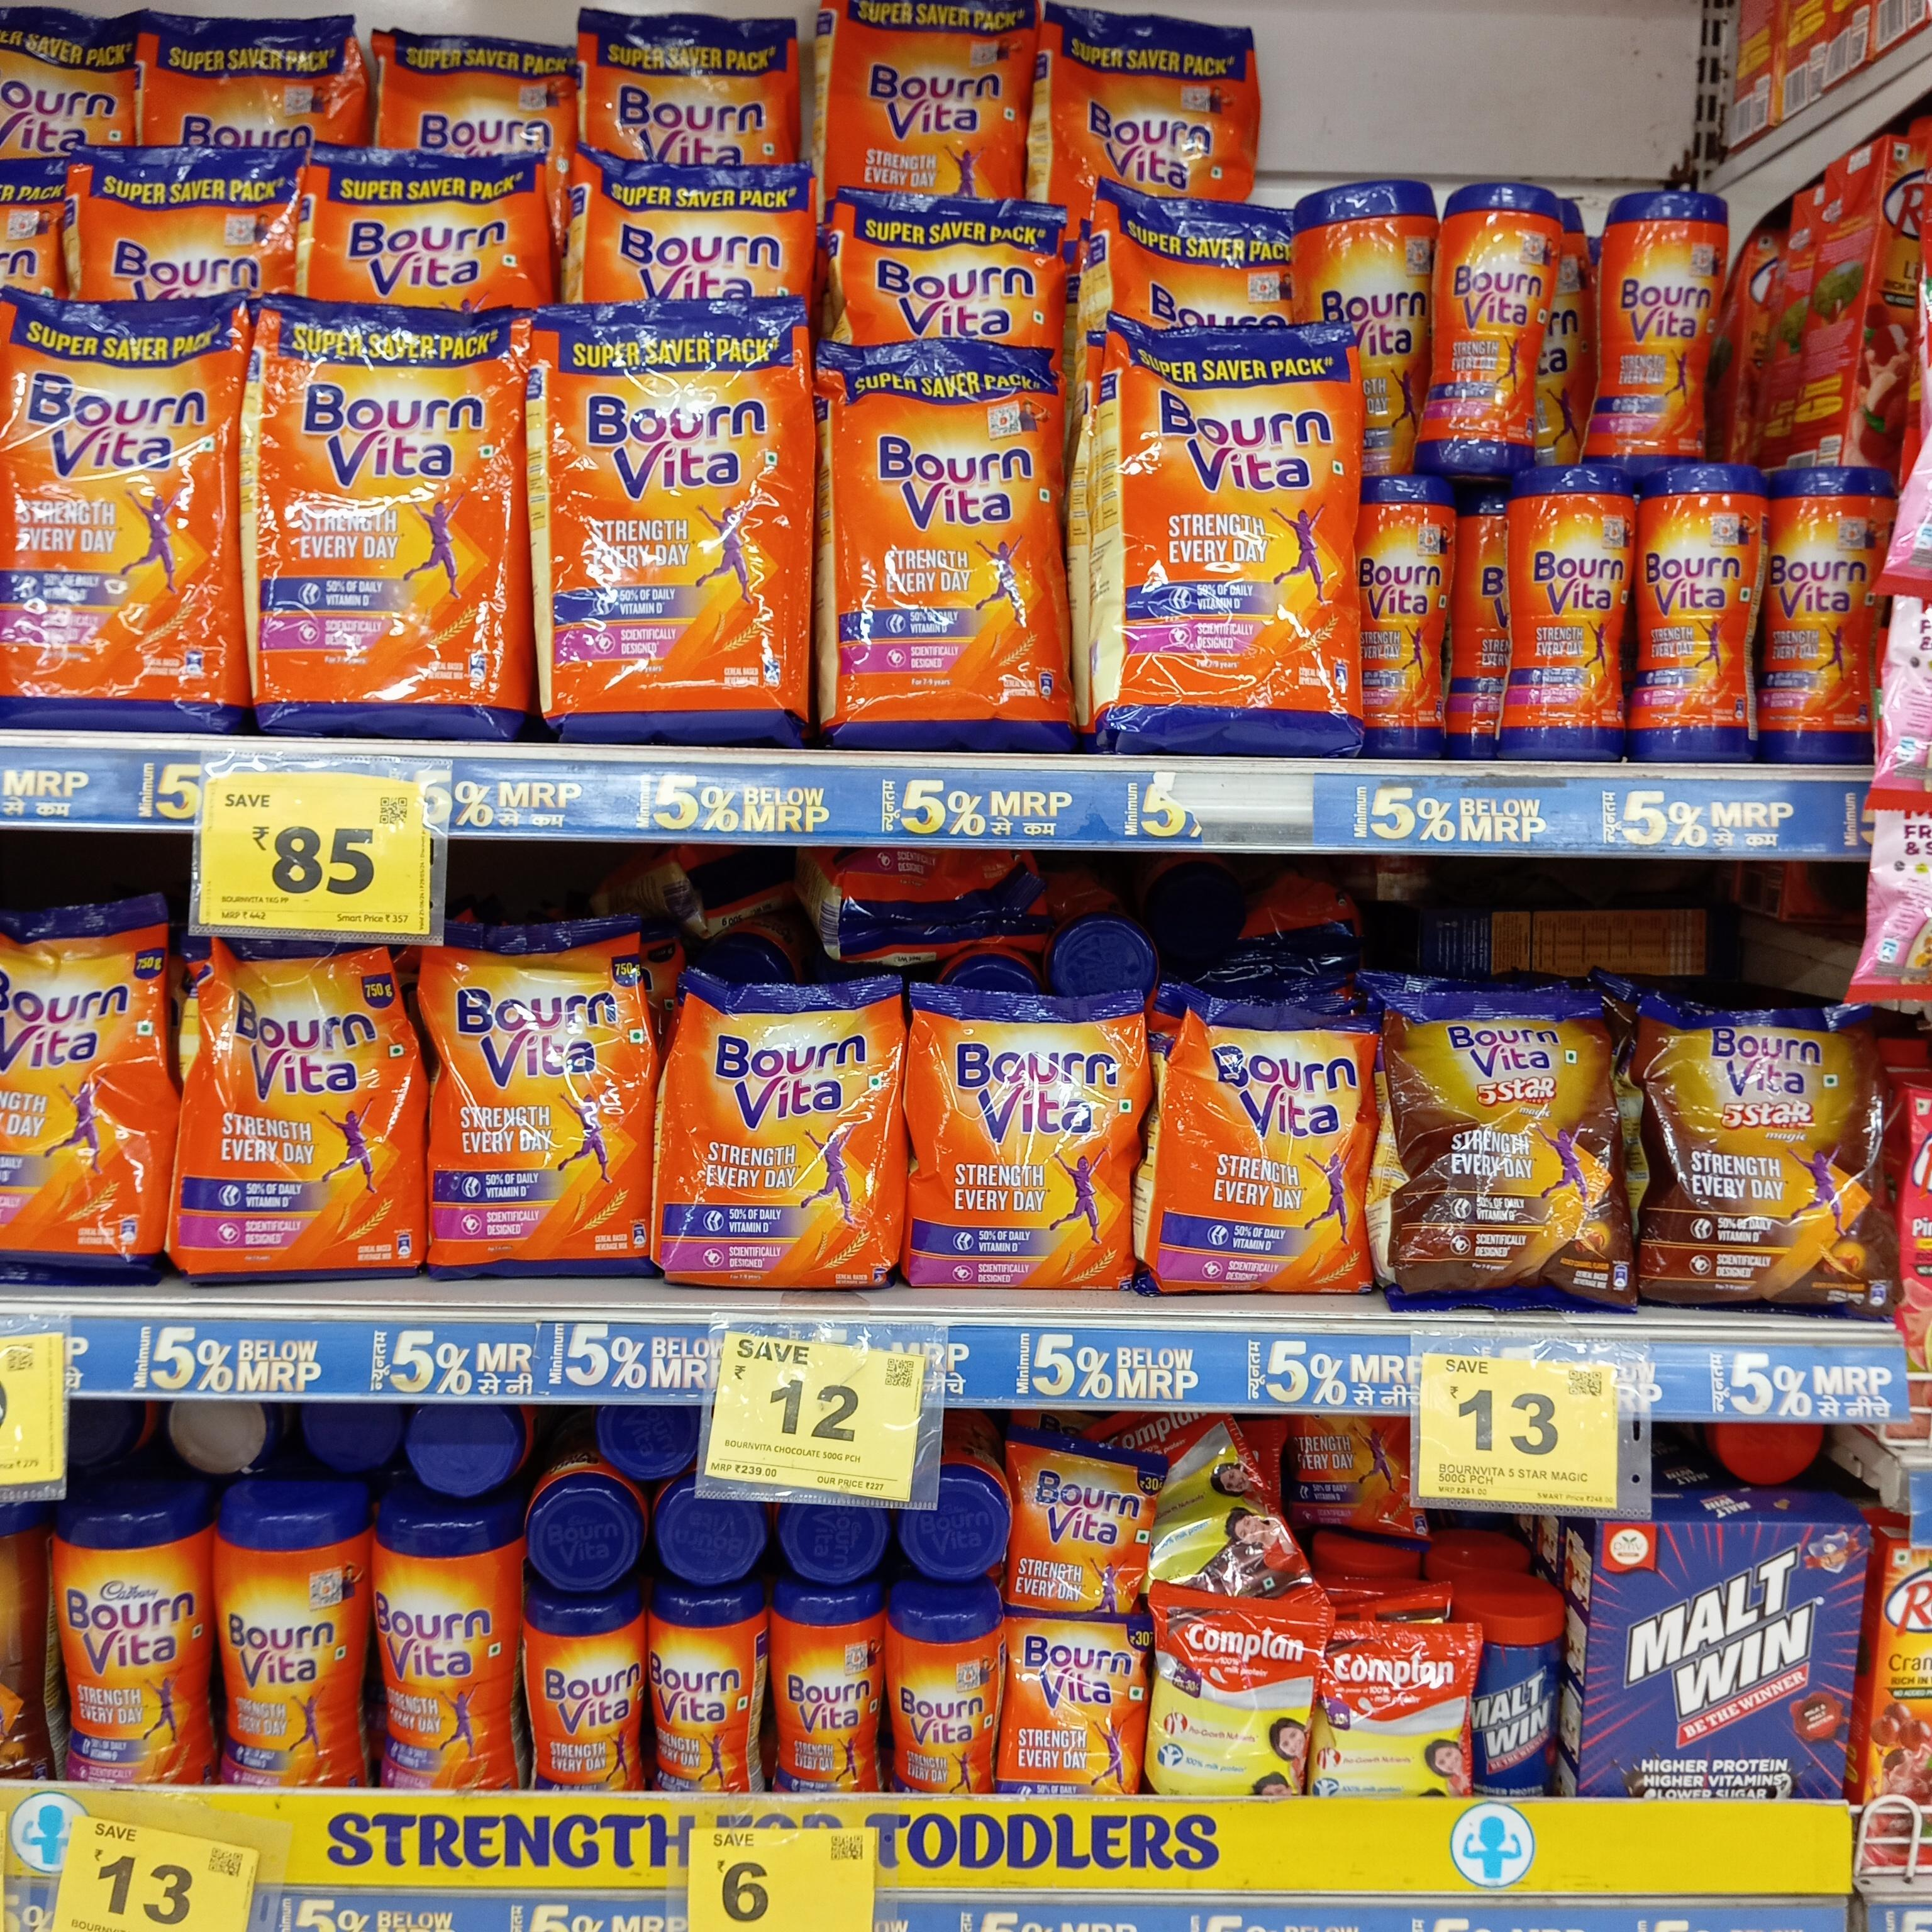BOURN_VITA_1_KG_POUCH: (265, 294, 508, 729), (0, 299, 241, 732), (1122, 322, 1361, 752), (554, 304, 793, 725), (835, 356, 1056, 747)
BOURN_VITA_200_G_JAR: (771, 1583, 878, 1794), (534, 1601, 644, 1798), (892, 1596, 991, 1801), (648, 1594, 747, 1796)
BOURN_VITA_500_G_JAR: (221, 1493, 370, 1790), (58, 1493, 211, 1780), (377, 1504, 515, 1794), (1596, 193, 1725, 462), (1640, 464, 1753, 761), (1511, 469, 1624, 764), (1771, 462, 1875, 775), (1433, 180, 1546, 469), (1362, 474, 1440, 757)
BOURN_VITA_500_G_POUCH: (674, 978, 897, 1295), (913, 993, 1122, 1293), (1178, 1003, 1368, 1297)
BOURN_VITA_750_G_POUCH: (191, 931, 416, 1279), (441, 927, 648, 1284), (0, 899, 159, 1277)
BOURN_VITA_75_G_POUCH: (1008, 1610, 1138, 1792), (1012, 1440, 1146, 1612)
BOURN_VITA_FIVE_STAR_MAGIC_500_G_POUCH: (1654, 1003, 1886, 1307), (1412, 991, 1626, 1306)
